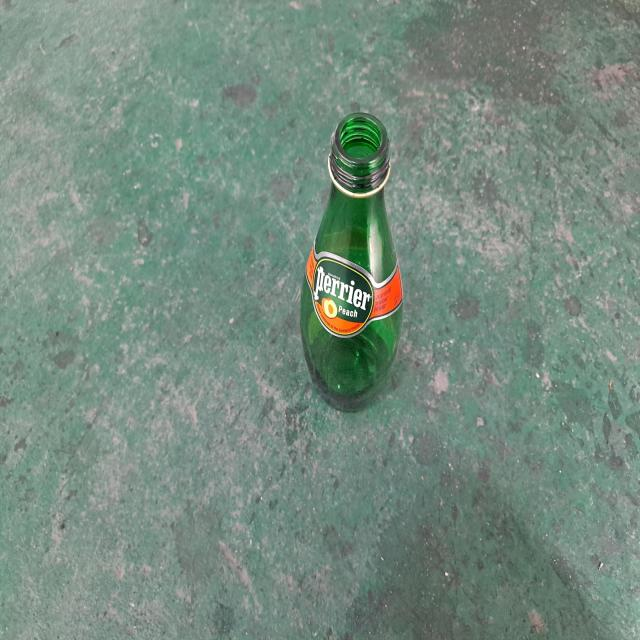glass: (301, 112, 403, 410)
